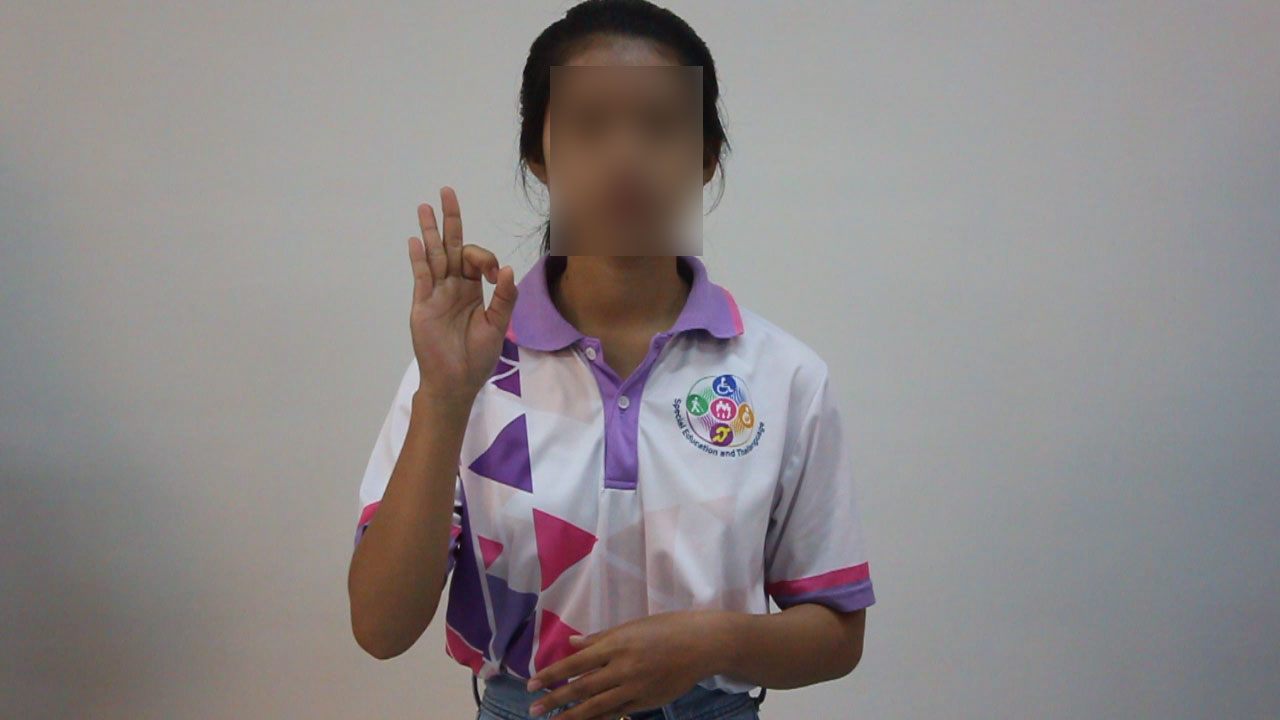for: (395, 171, 528, 408)
